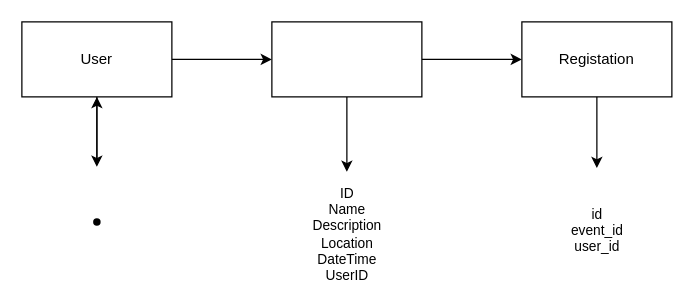
The diagram is 694 pixels wide and 305 high, and some of its shapes have lost their labels. The box of each missing label's shape, as (x1, y1, x2, y2) in pixels:
Event: (271, 21, 422, 97)
ID Email Password: (83, 208, 109, 234)
